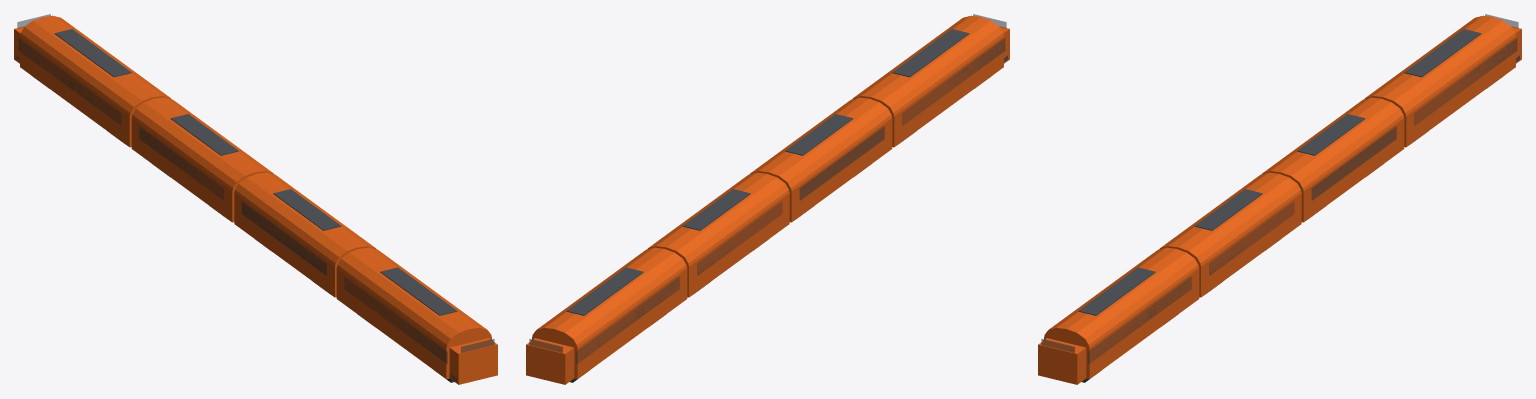
Rendered from train_lod.glb.
3 renders of one model, left to right at view 1: azimuth 30°, elevation 25°; view 2: azimuth 150°, elevation 25°; view 3: azimuth 330°, elevation 25°, orthographic.
Parts seen in each view (by area): view 1: car_3_body, car_0_body, car_1_body, car_2_body; view 2: car_0_body, car_3_body, car_2_body, car_1_body; view 3: car_3_body, car_0_body, car_1_body, car_2_body.
Part boxes in pixels (x1=…): car_3_body: x1=336, y1=247, x2=497, y2=384; car_0_body: x1=14, y1=14, x2=171, y2=147; car_1_body: x1=131, y1=97, x2=273, y2=222; car_2_body: x1=234, y1=172, x2=376, y2=297; car_0_body: x1=526, y1=247, x2=687, y2=384; car_3_body: x1=852, y1=14, x2=1009, y2=147; car_2_body: x1=750, y1=97, x2=892, y2=222; car_1_body: x1=647, y1=172, x2=789, y2=297; car_3_body: x1=1038, y1=247, x2=1199, y2=384; car_0_body: x1=1364, y1=14, x2=1521, y2=147; car_1_body: x1=1262, y1=97, x2=1404, y2=222; car_2_body: x1=1159, y1=172, x2=1301, y2=297.
Size of the model in its own units: 2.36 by 2.62 by 39.31.
